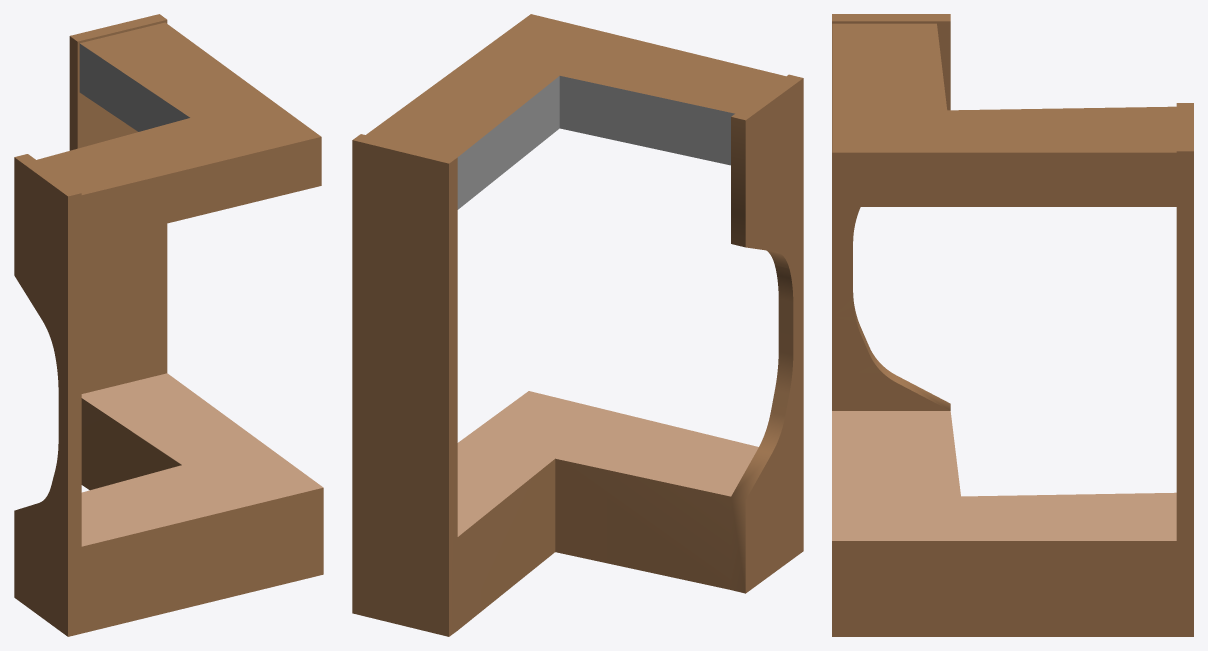
File: lemari4_ekspedisi.fbx
The picture shows the model from 3 angles, left to right: view 1: azimuth 30°, elevation 25°; view 2: azimuth 150°, elevation 25°; view 3: azimuth 270°, elevation 25°; orthographic projection. The views are drawn at different scales.
Parts seen in each view (by area): view 1: polySurface191; view 2: polySurface191; view 3: polySurface191.
Part boxes in pixels (<box>): polySurface191: <box>14,14,323,636</box>; polySurface191: <box>352,14,803,636</box>; polySurface191: <box>832,14,1193,636</box>.
Bounding box in the file's own units: 1.58 × 2.61 × 1.76.
